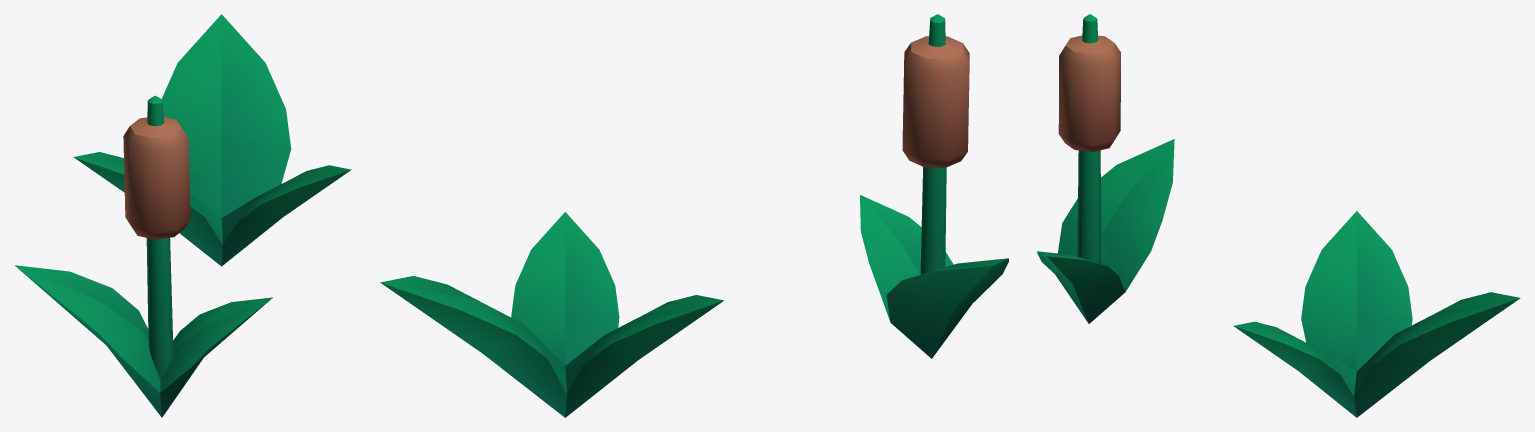
File: water_plants_1.glb
3 views of the same model, side by side, from view 1: azimuth 30°, elevation 25°; view 2: azimuth 150°, elevation 25°; view 3: azimuth 270°, elevation 25° (orthographic). The views are drawn at different scales.
Parts seen in each view (by area): view 1: waterplant_A, waterplant_B; view 2: waterplant_A, waterplant_B; view 3: waterplant_A, waterplant_B.
Boxes of the visible parts, x1,y1,x2,y2 form: waterplant_A: (73, 14, 351, 266); waterplant_B: (15, 95, 272, 417); waterplant_A: (380, 212, 724, 417); waterplant_B: (860, 14, 1008, 358); waterplant_A: (1233, 211, 1520, 417); waterplant_B: (1037, 14, 1174, 323).
Bounding box in the file's own units: 0.3257 × 0.2548 × 0.3626.
2 materials, 2 textured.
